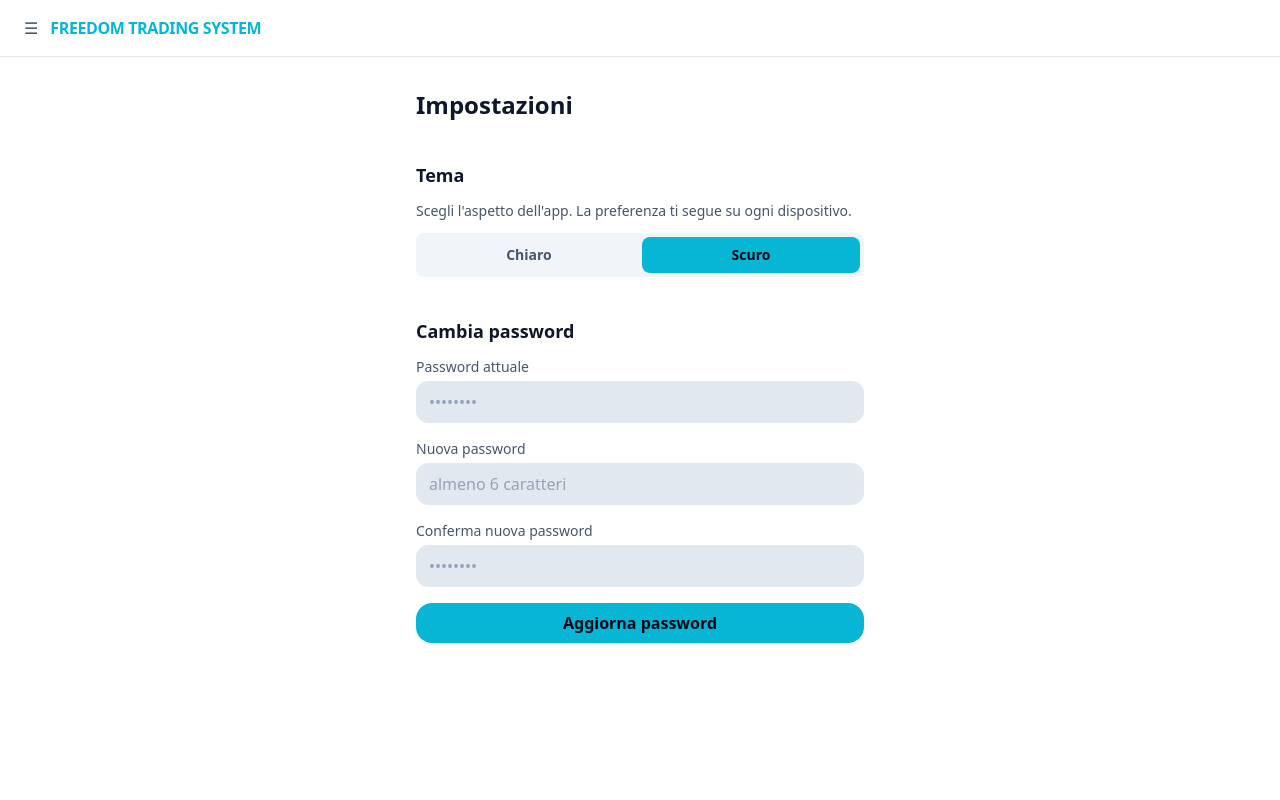
Settings — cambio password › rifiuta una nuova password troppo corta senza chiamare Supabase
Type "vecchia" into the password field labelled "Password attuale" at (640, 402), box [416,381,864,423]
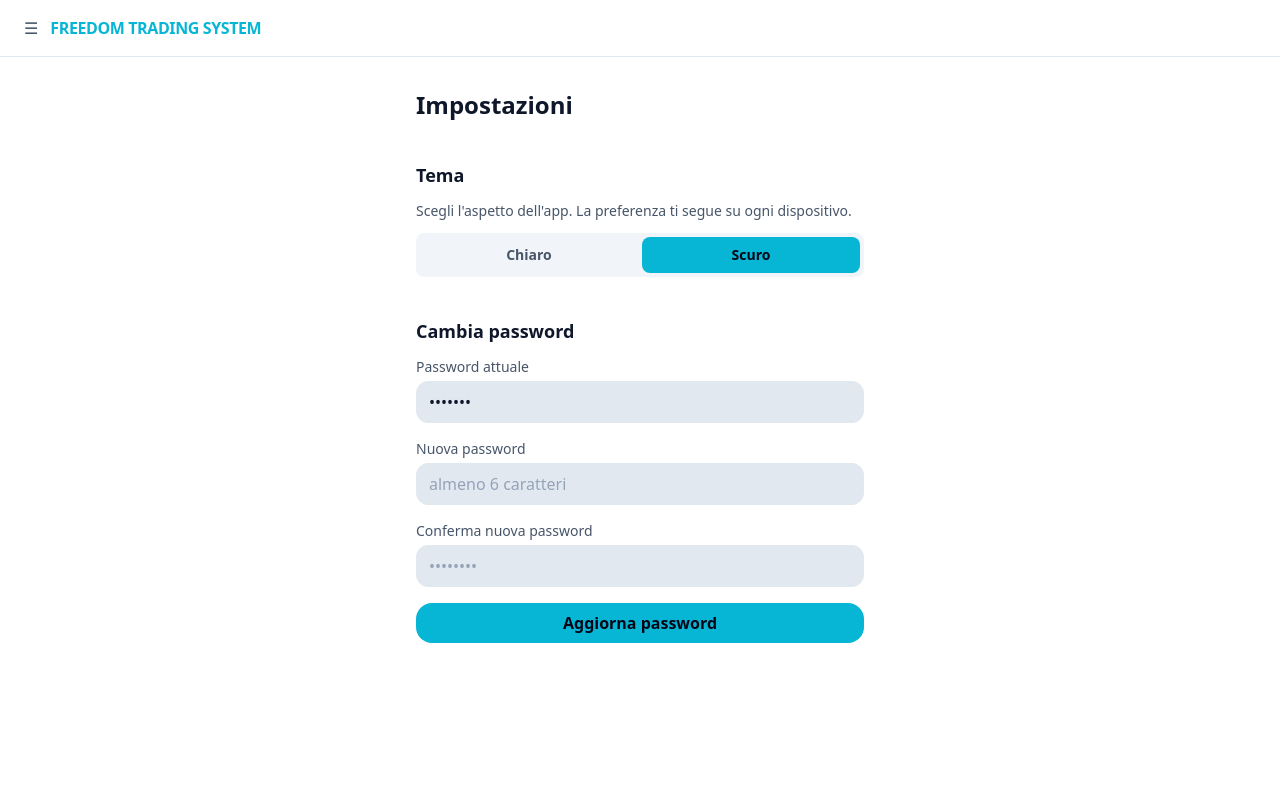
Type "123" into the password field labelled "Nuova password" at (640, 484), box [416,463,864,505]
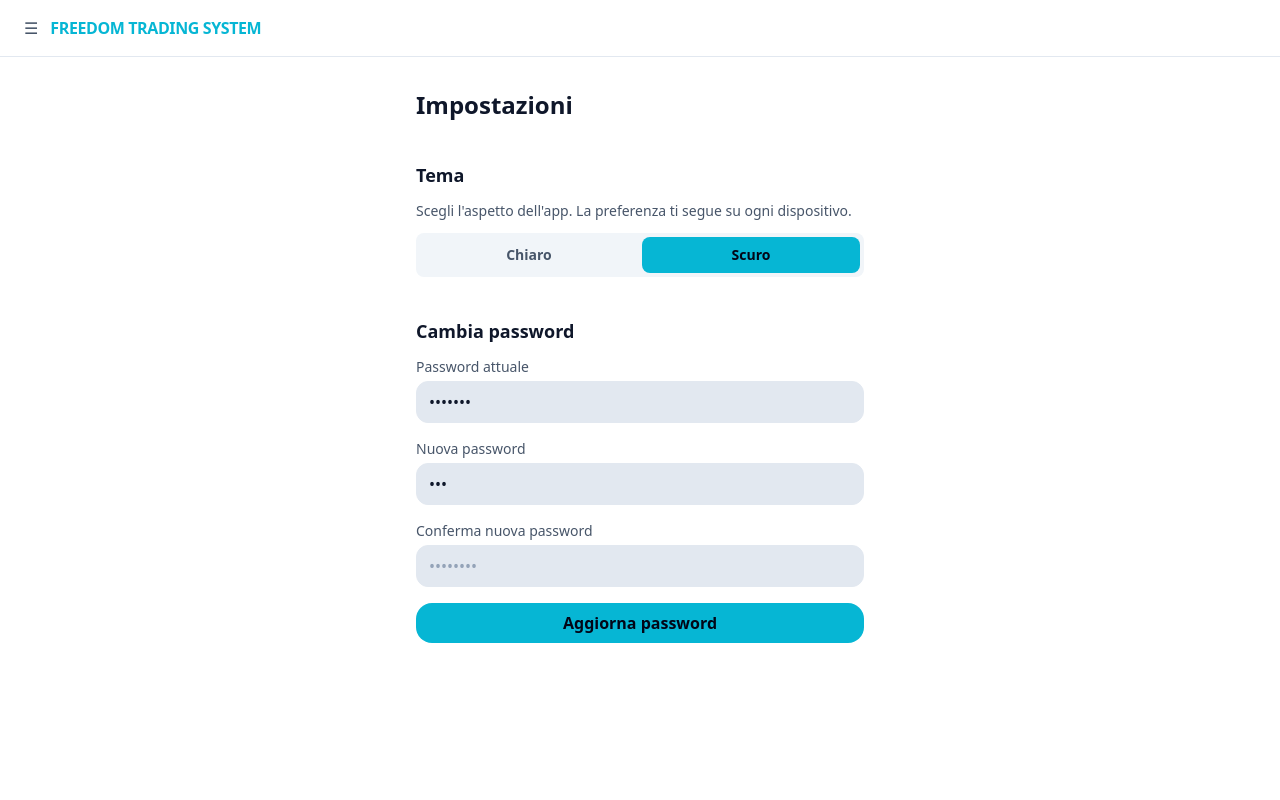
Type "123" into the password field labelled "Conferma nuova password" at (640, 566), box [416,545,864,587]
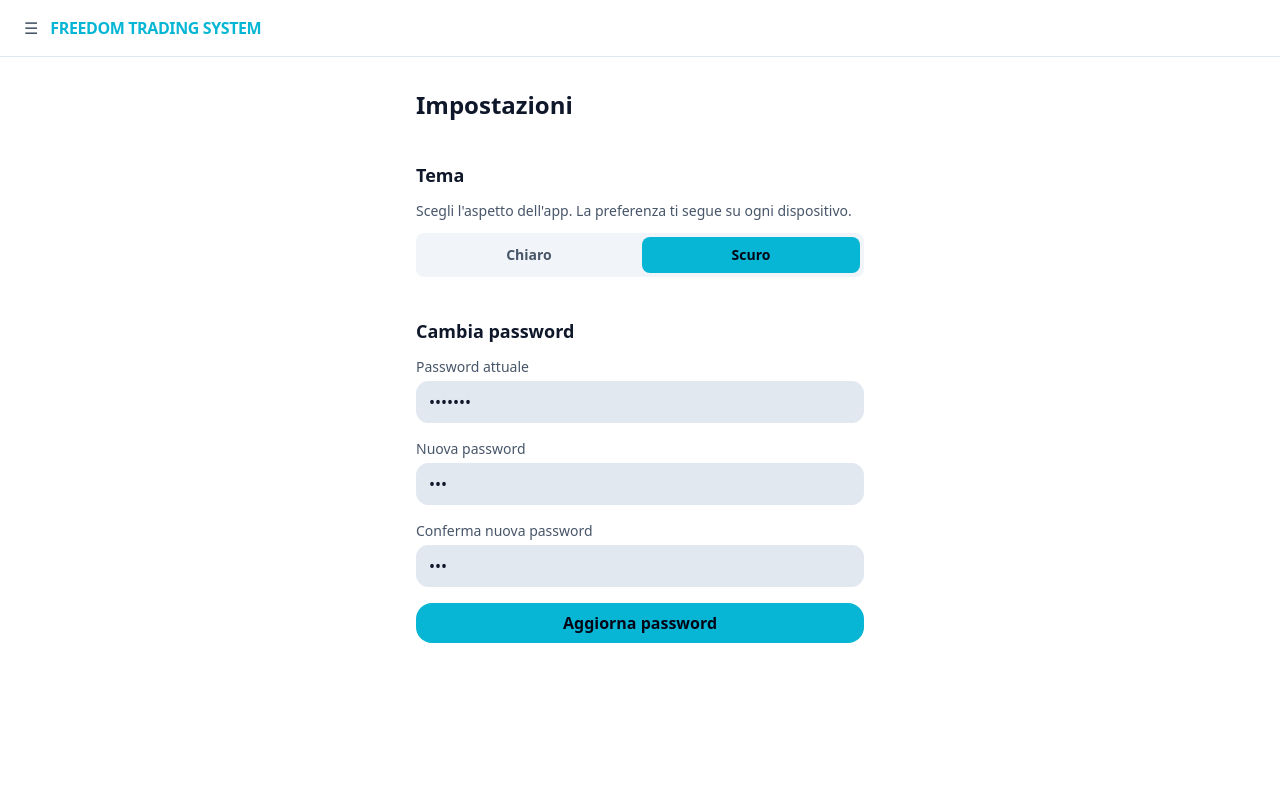
Click the button "Aggiorna password" at (640, 623), box [416,603,864,643]
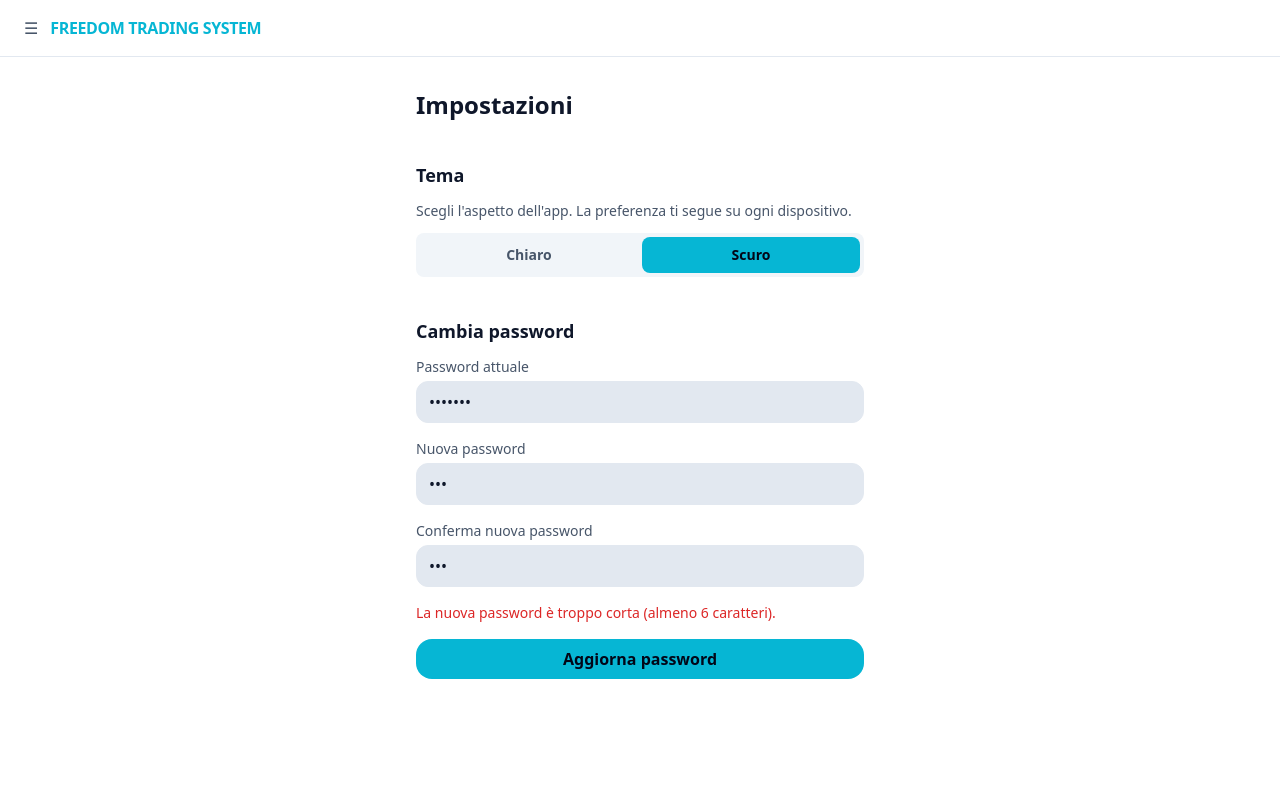
Expected: the message shows "troppo corta", [416,603,776,622]
